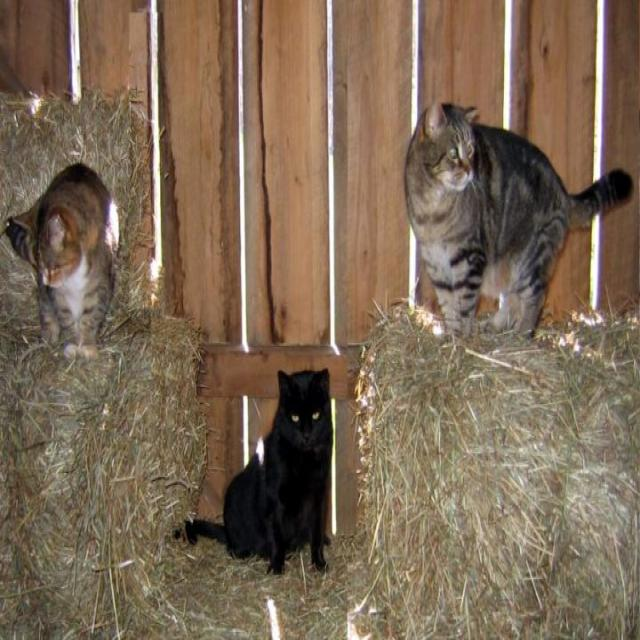cat: (405, 102, 632, 333), (185, 369, 331, 573), (6, 164, 119, 358)
